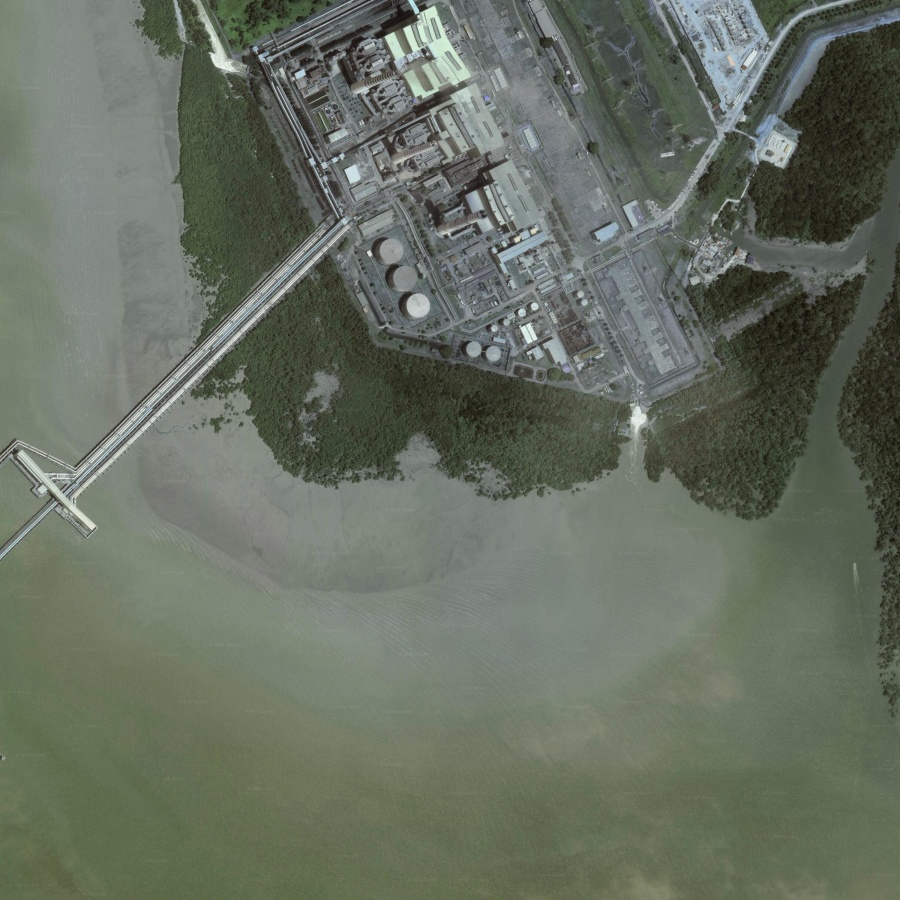PowerPlant: (275, 20, 640, 382)
